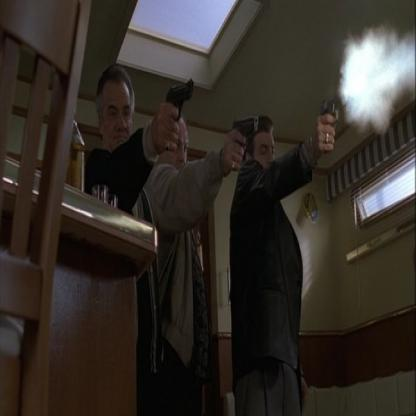Gun: (161, 76, 196, 130), (318, 91, 347, 155), (228, 112, 259, 167)
